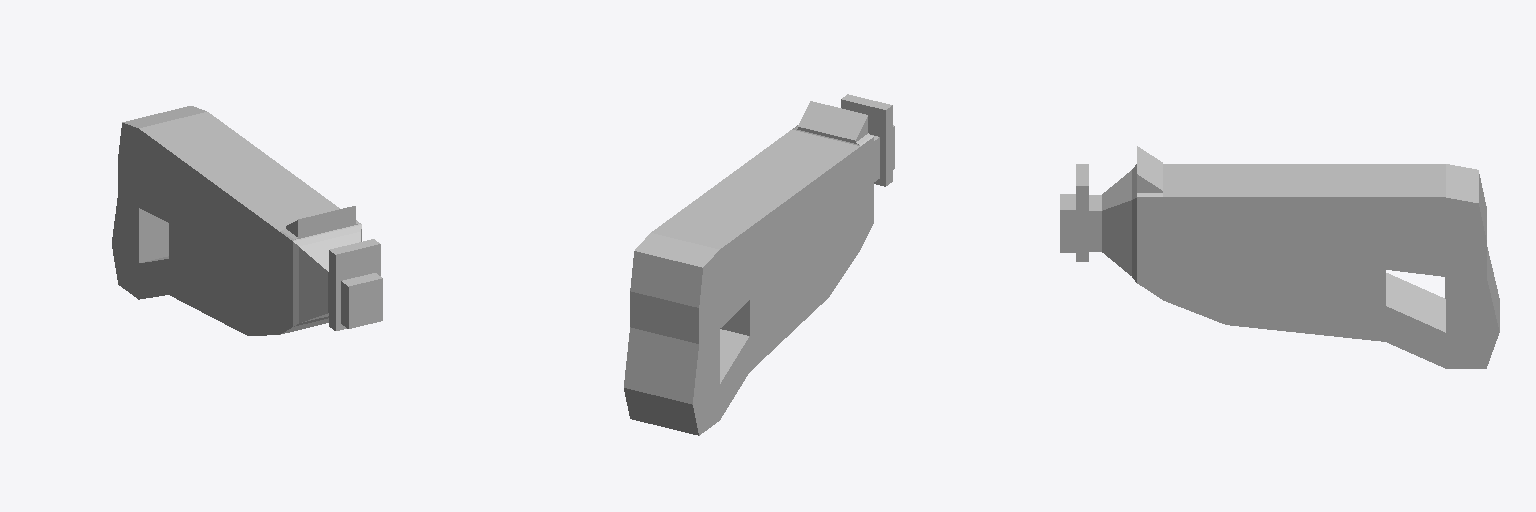
File: tracer_gun.obj
3 views of the same model, side by side, from view 1: azimuth 30°, elevation 25°; view 2: azimuth 150°, elevation 25°; view 3: azimuth 270°, elevation 25° (orthographic).
Visible parts, largest first — view 1: pCube1; view 2: pCube1; view 3: pCube1.
Boxes of the visible parts, x1,y1,x2,y2 form: pCube1: [112, 106, 382, 335]; pCube1: [624, 94, 894, 435]; pCube1: [1060, 146, 1499, 368].
Size of the model in its own units: 8.01 by 21.23 by 44.1.